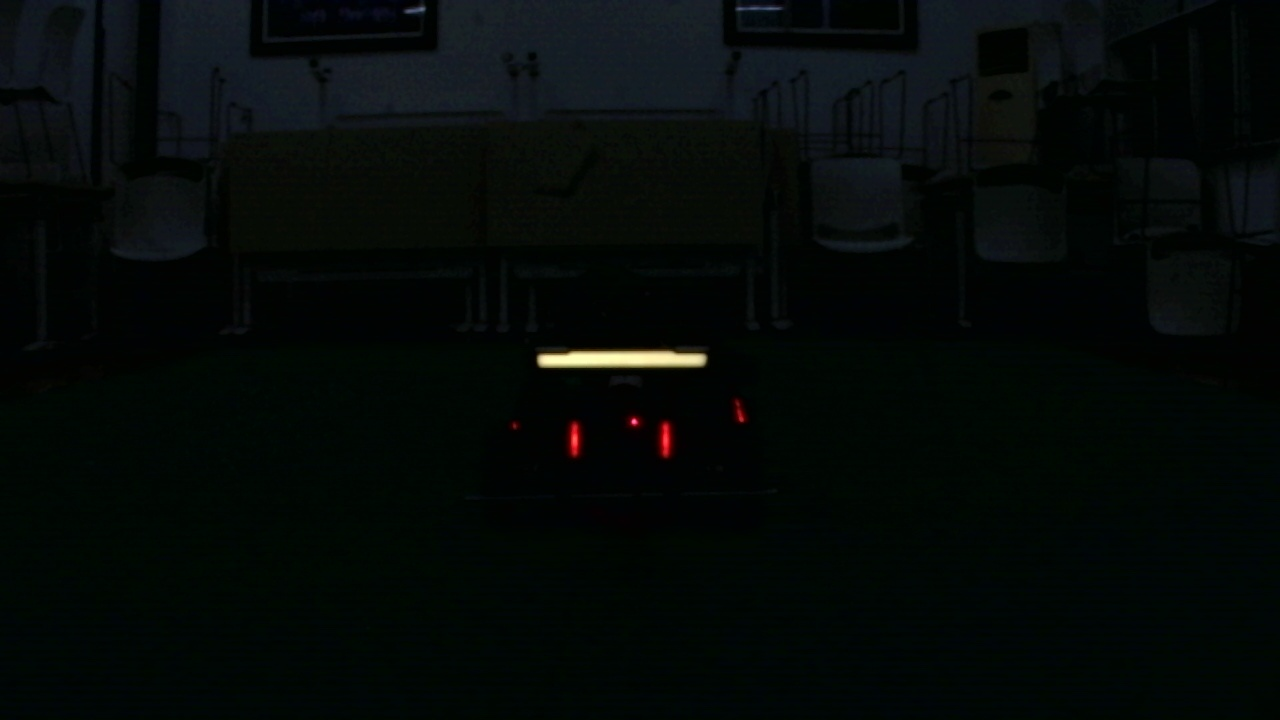lamp: (566, 422, 582, 458), (660, 420, 674, 461)
pair1: (570, 424, 672, 459)
